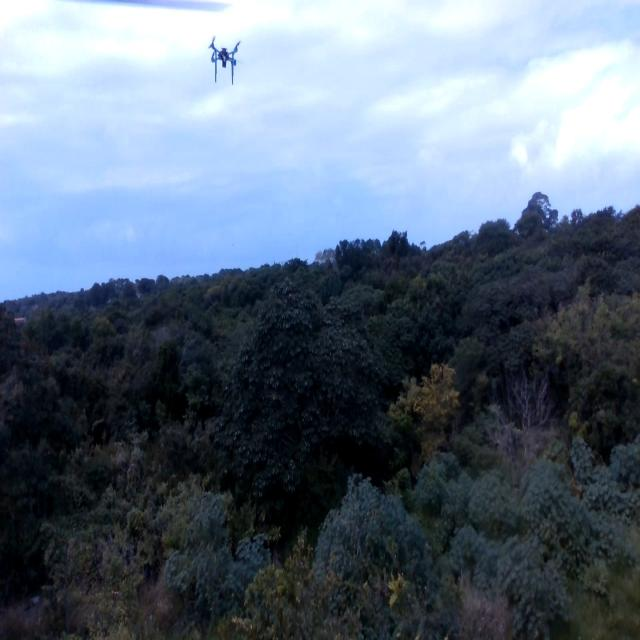-uav-: (205, 30, 246, 86)
